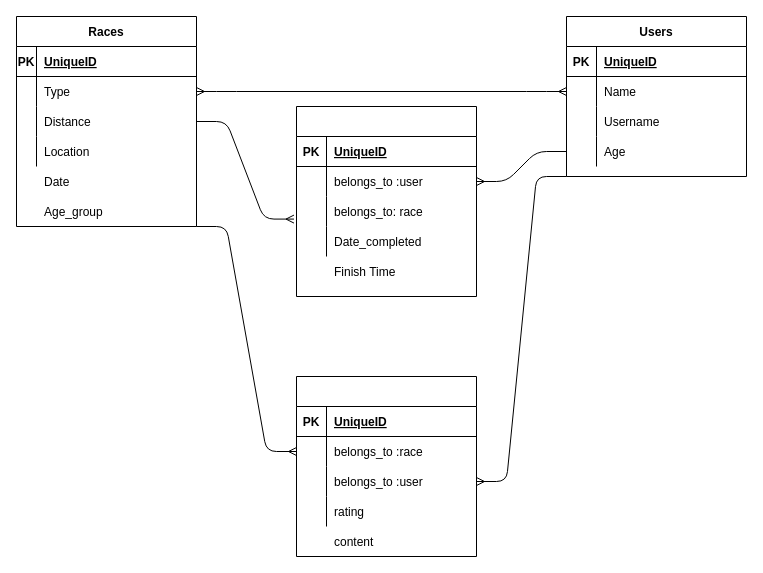
This 763x573 diagram has some shape labels left out. Here are the shapes that lost their labels. From the top down, the box of each, then its label:
(296, 106, 476, 296): User_Races
(296, 376, 476, 556): Reviews
